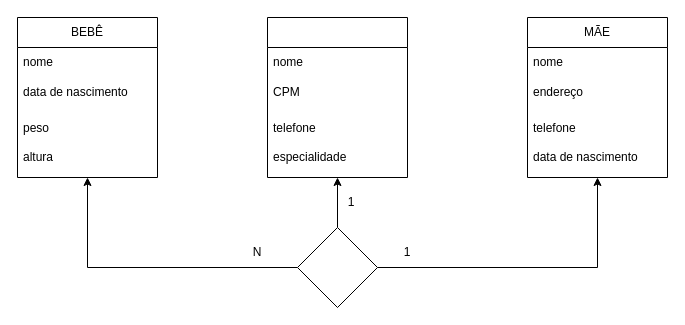
This 685x325 diagram has some shape labels left out. Here are the shapes that lost their labels. From the top down, the box of each, then its label:
(266, 16, 408, 178): MÉDICO
(296, 226, 378, 308): tem
